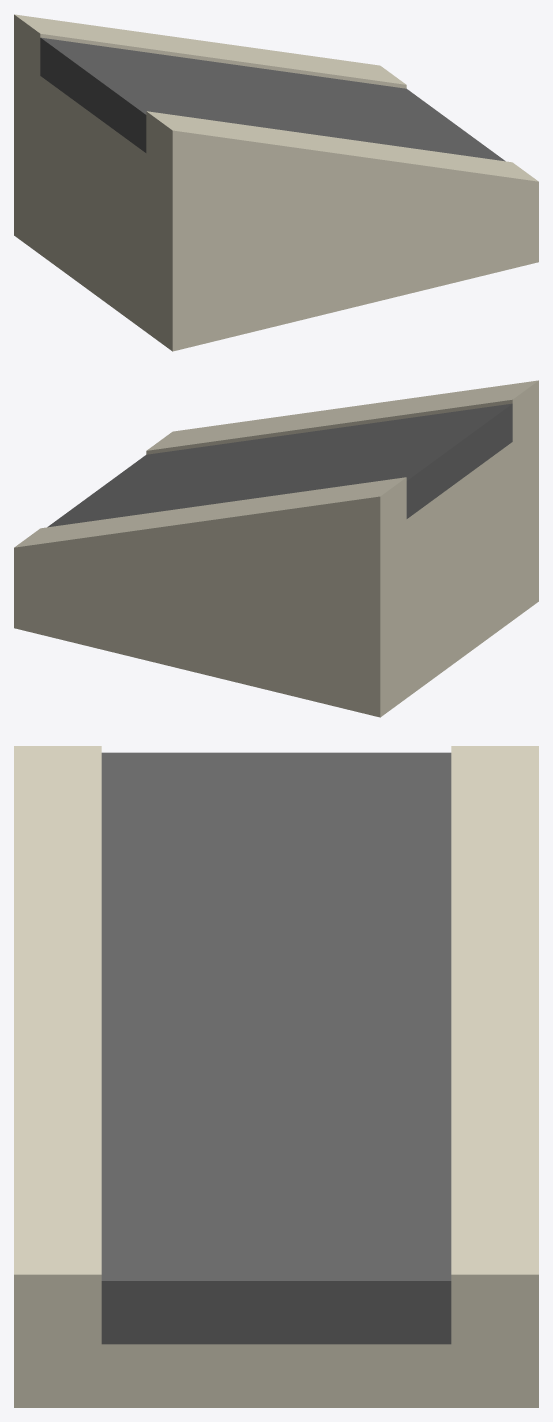
Rendered from roadTile_296.fbx.
The picture shows the model from 3 angles, top to bottom: view 1: azimuth 30°, elevation 25°; view 2: azimuth 150°, elevation 25°; view 3: azimuth 270°, elevation 25°; orthographic projection. The views are drawn at different scales.
Parts seen in each view (by area): view 1: roadTile_296; view 2: roadTile_296; view 3: roadTile_296.
Part boxes in pixels (x1,y1,x2,y2): roadTile_296: [14, 14, 538, 351]; roadTile_296: [14, 380, 538, 717]; roadTile_296: [14, 746, 538, 1407].
Bounding box in the file's own units: 118 × 68.11 × 88.58.
